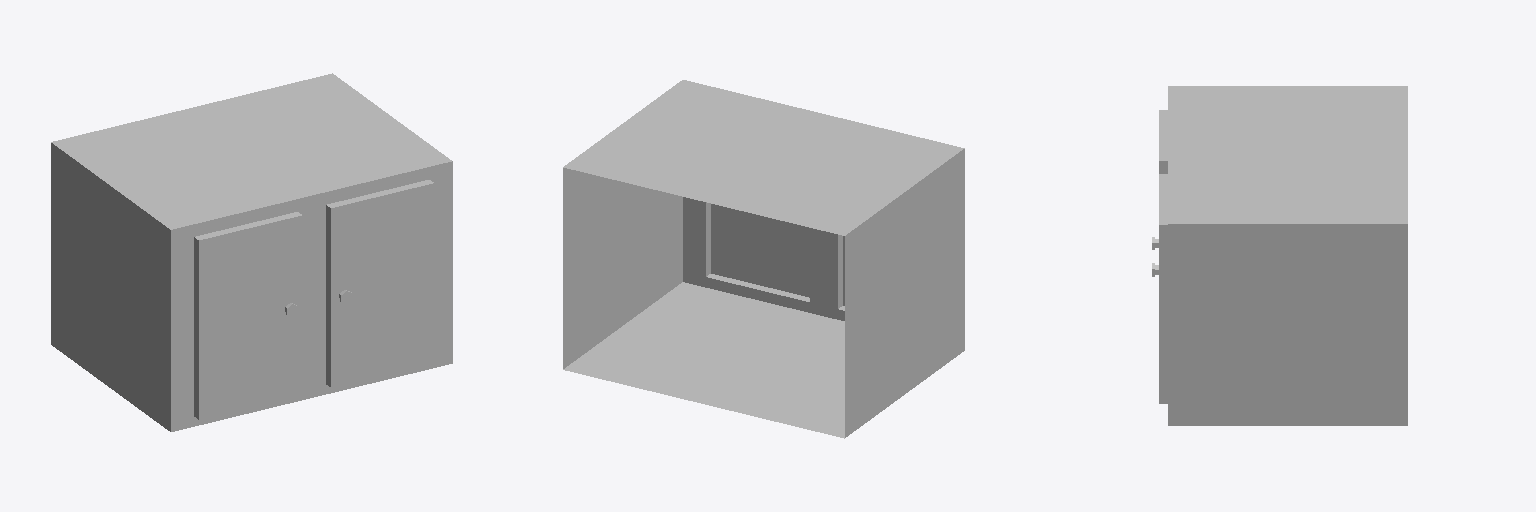
Rendered from armarito.obj.
The picture shows the model from 3 angles: view 1: azimuth 30°, elevation 25°; view 2: azimuth 150°, elevation 25°; view 3: azimuth 270°, elevation 25°; orthographic projection.
Parts seen in each view (by area): view 1: Overhead_cupboard_Plane.010; view 2: Overhead_cupboard_Plane.010; view 3: Overhead_cupboard_Plane.010.
Boxes of the visible parts, x1=… form: Overhead_cupboard_Plane.010: x1=51, y1=73, x2=452, y2=431; Overhead_cupboard_Plane.010: x1=563, y1=80, x2=964, y2=438; Overhead_cupboard_Plane.010: x1=1152, y1=86, x2=1407, y2=425.
Size of the model in its own units: 8.35 by 5.73 by 6.59.